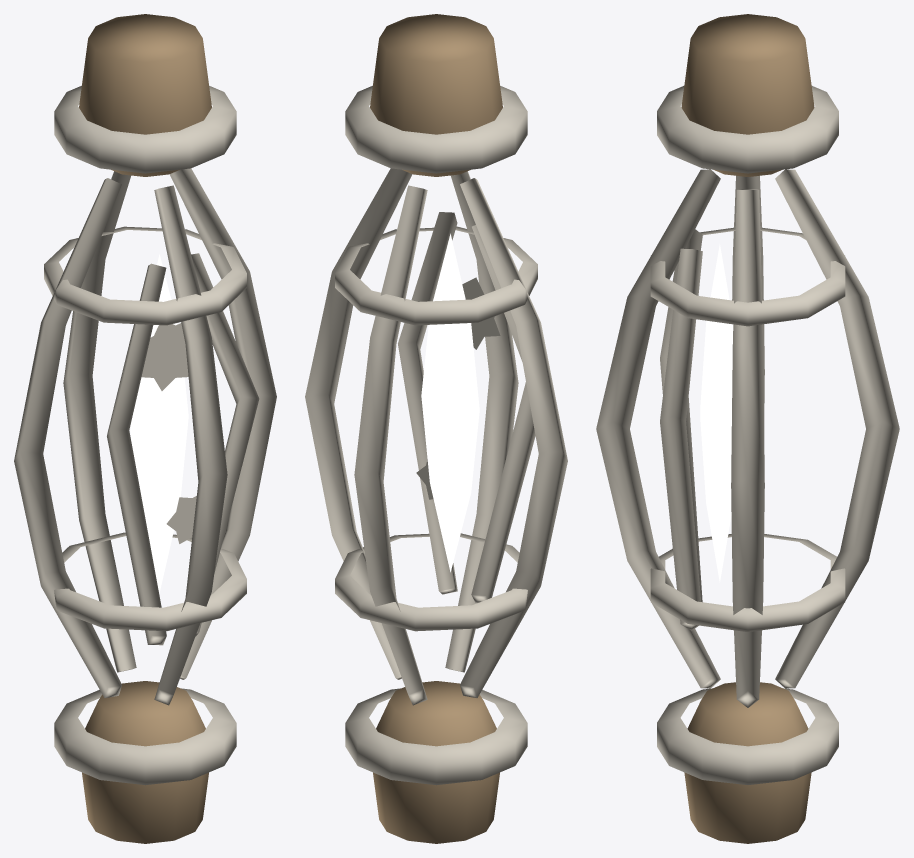
File: interior_unique.glb
3 renders of one model, left to right at view 1: azimuth 30°, elevation 25°; view 2: azimuth 150°, elevation 25°; view 3: azimuth 270°, elevation 25°, orthographic.
Parts seen in each view (by area): view 1: interior_unique; view 2: interior_unique; view 3: interior_unique.
Boxes of the visible parts, x1,y1,x2,y2 form: interior_unique: (14, 14, 276, 843); interior_unique: (305, 14, 567, 843); interior_unique: (596, 14, 899, 843).
Bounding box in the file's own units: 0.162 × 0.46 × 0.162.
